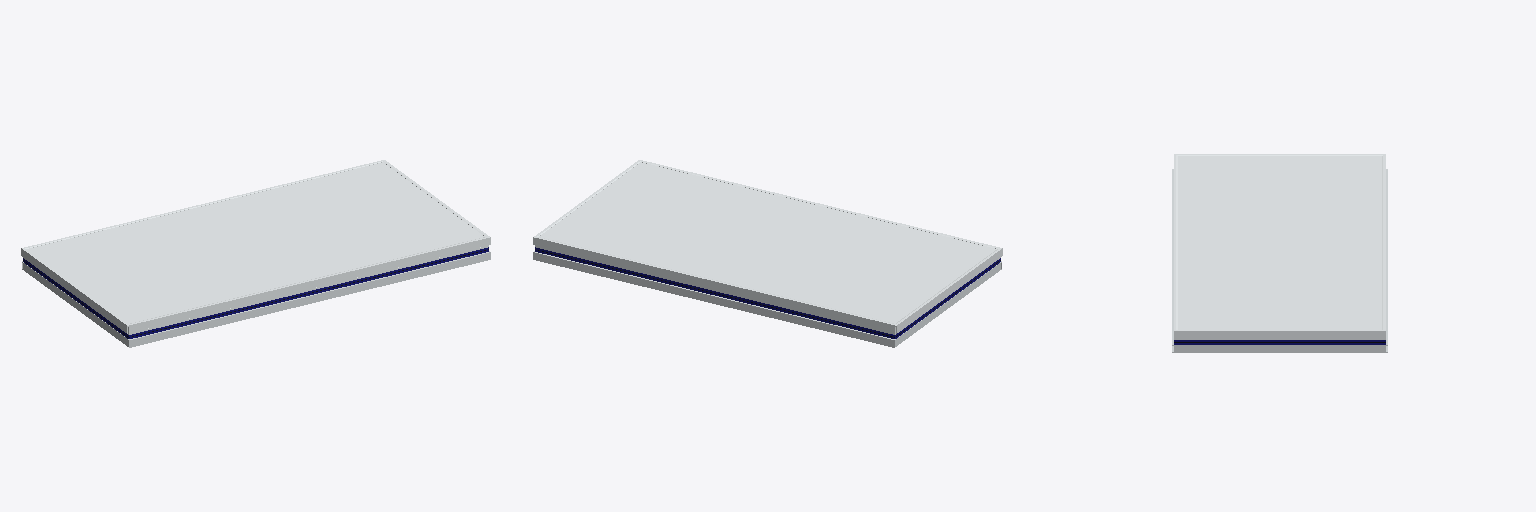
File: 1placa_solar_explode_Mont1.obj
3 renders of one model, left to right at view 1: azimuth 30°, elevation 25°; view 2: azimuth 150°, elevation 25°; view 3: azimuth 270°, elevation 25°, orthographic.
Visible parts, largest first — view 1: Mesh_179, Mesh_163, Mesh_499, Mesh_19, Mesh_259, Mesh_583, Mesh_247; view 2: Mesh_179, Mesh_171, Mesh_599, Mesh_11, Mesh_259, Mesh_583, Mesh_247; view 3: Mesh_179, Mesh_579, Mesh_263, Mesh_259, Mesh_7, Mesh_595.
Boxes of the visible parts, box(x1,y1,x2,y2) form: Mesh_179: box(27, 162, 484, 323); Mesh_163: box(127, 237, 490, 333); Mesh_499: box(129, 252, 490, 347); Mesh_19: box(129, 246, 488, 338); Mesh_259: box(22, 160, 489, 325); Mesh_583: box(22, 262, 128, 346); Mesh_247: box(21, 248, 126, 332); Mesh_179: box(539, 162, 996, 323); Mesh_171: box(533, 237, 896, 333); Mesh_599: box(533, 252, 894, 347); Mesh_11: box(535, 245, 894, 338); Mesh_259: box(534, 160, 1001, 325); Mesh_583: box(895, 262, 1001, 346); Mesh_247: box(897, 248, 1002, 332); Mesh_179: box(1178, 156, 1381, 329); Mesh_579: box(1172, 345, 1387, 352); Mesh_263: box(1174, 331, 1385, 338); Mesh_259: box(1174, 154, 1385, 330); Mesh_7: box(1174, 339, 1385, 344); Mesh_595: box(1172, 169, 1387, 344).
Bounding box in the file's own units: 1972 × 138 × 1014.